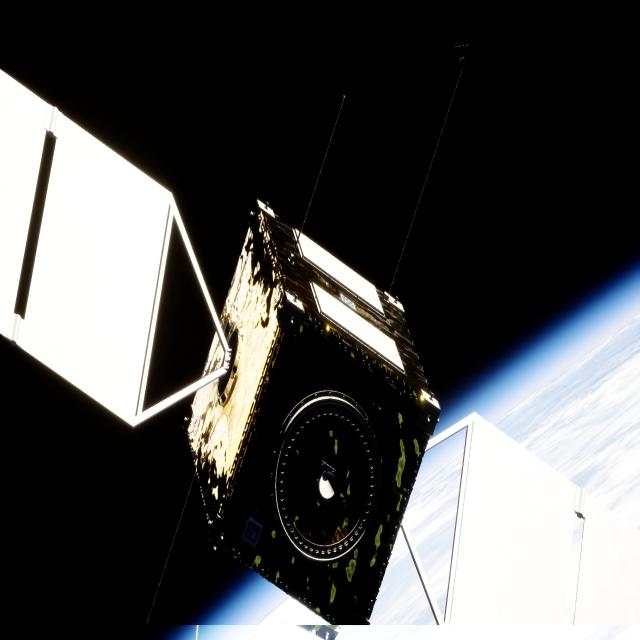medium_debris: (0, 70, 640, 640)
